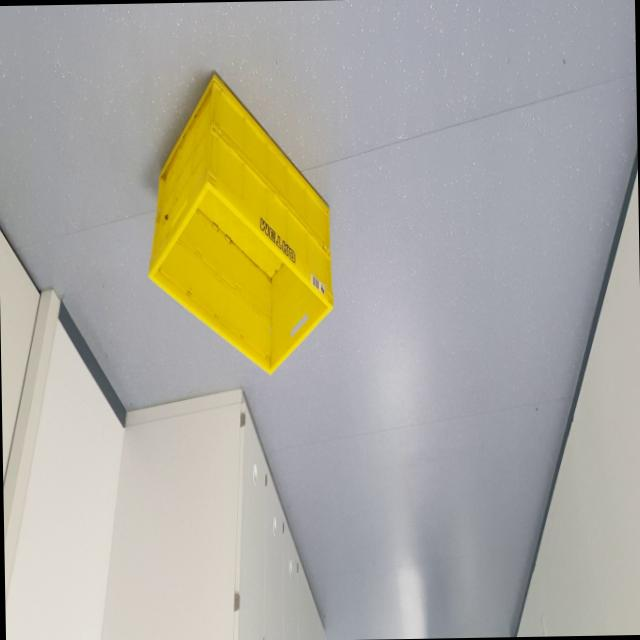box: (126, 58, 360, 394)
